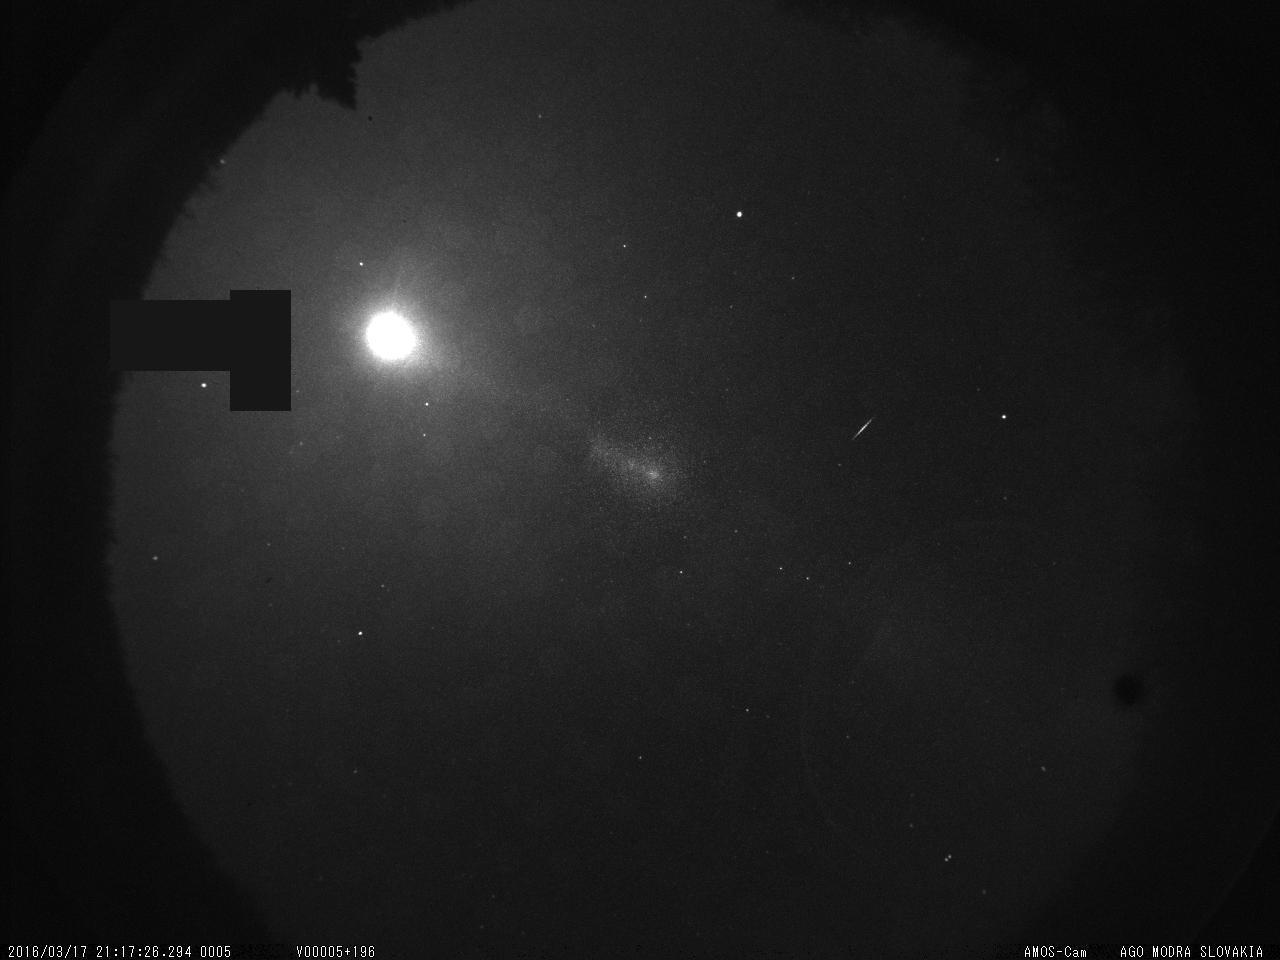meteor: (839, 407, 885, 459)
